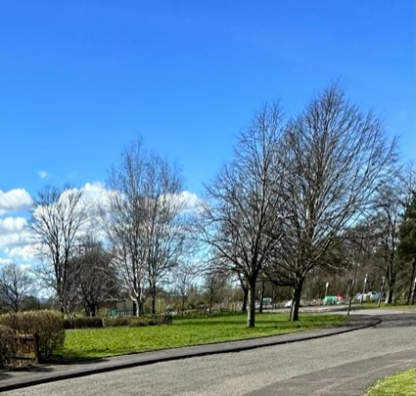tree: (277, 82, 399, 324), (212, 98, 277, 333), (106, 142, 188, 305), (18, 174, 79, 322), (71, 245, 115, 320)
